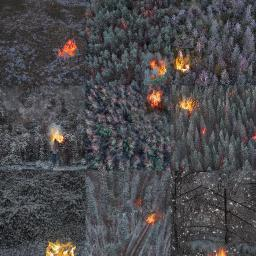Small fire: (145, 52, 170, 79), (56, 38, 81, 62), (173, 50, 195, 75), (45, 240, 76, 256), (47, 128, 68, 147), (146, 87, 165, 108), (205, 243, 231, 256), (142, 210, 161, 226), (178, 96, 195, 112)
